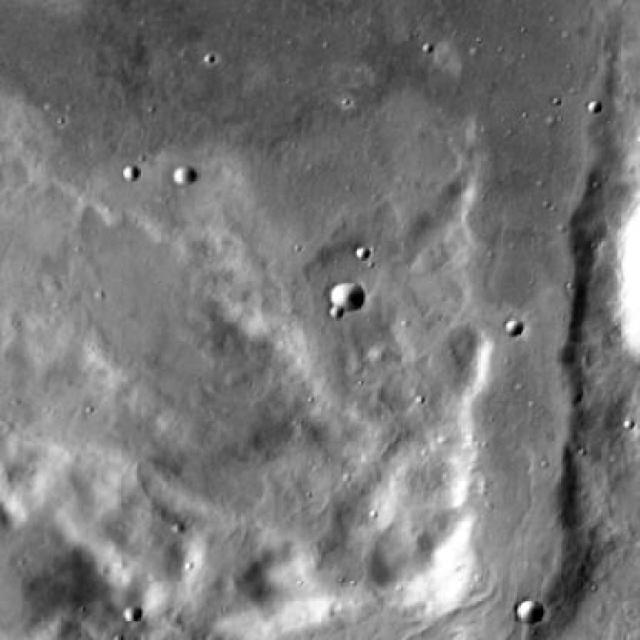crater: (330, 283, 364, 314), (516, 601, 542, 625), (174, 167, 195, 185), (505, 318, 524, 336), (122, 166, 141, 183), (122, 606, 141, 622), (588, 99, 604, 113)
